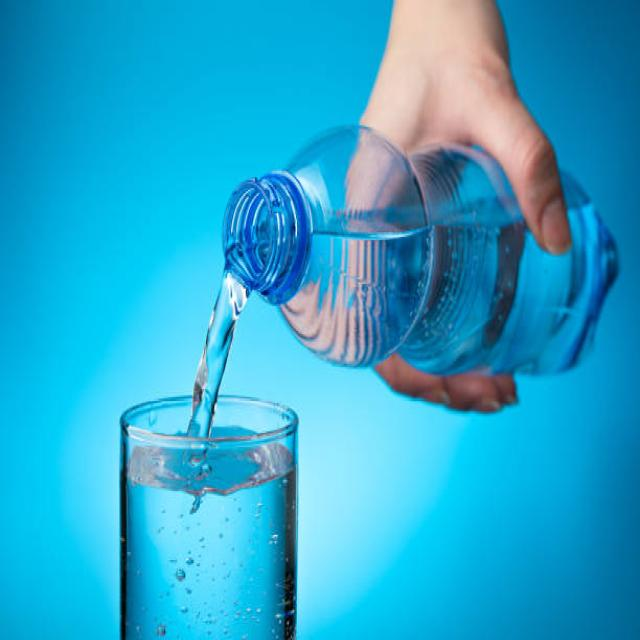blue_bottle: (219, 132, 627, 378)
